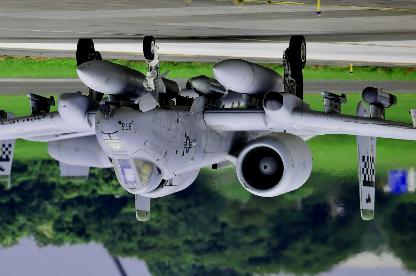A10: (1, 33, 415, 223), (1, 78, 317, 182)
